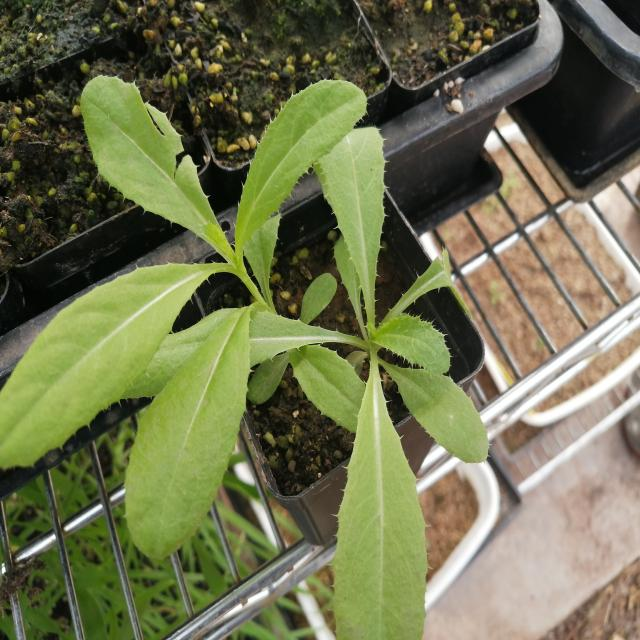field_thistle: (42, 83, 473, 615)
